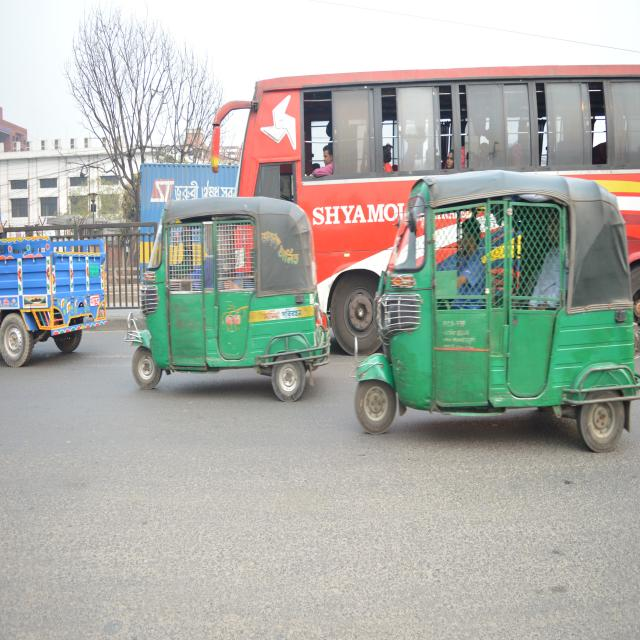bus: (242, 65, 640, 362)
truck: (0, 224, 107, 355)
